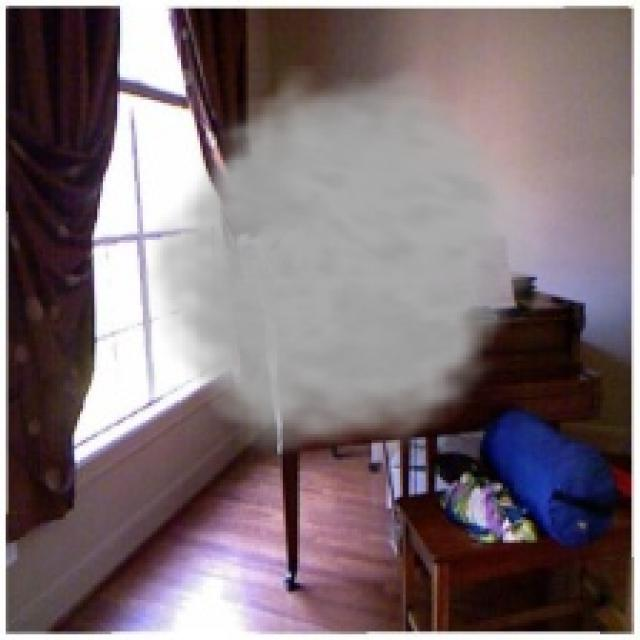smoke: (137, 66, 557, 471)
